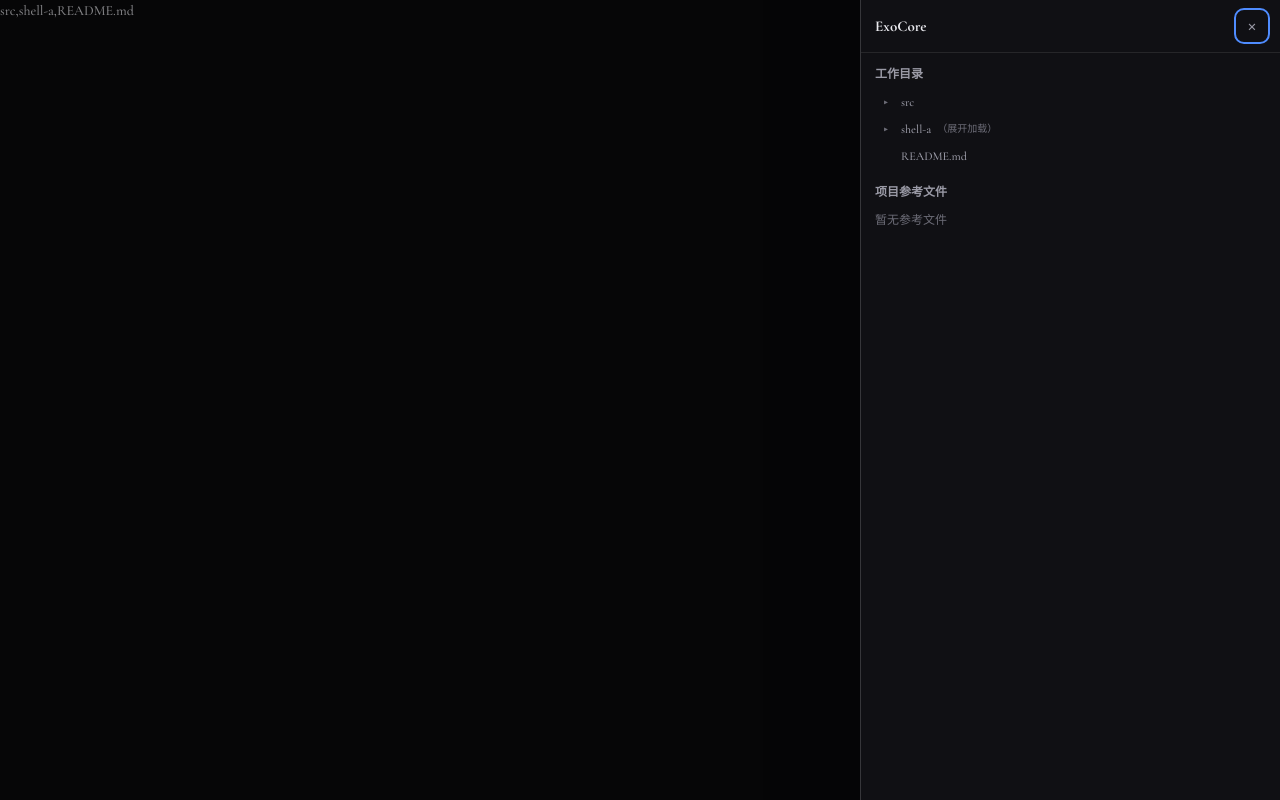
Test: P1D Project files drawer leaf › lands a shell load in the Query-owned record; every consumer sees the merge
Expected: the text "shell-a" is shown, [901,120,931,138]
What coordinates should you click on to do the following:
click the button "▸ shell-a （展开加载）"
I would click on:
 (916, 129)
Its box is [875,116,1266,142].
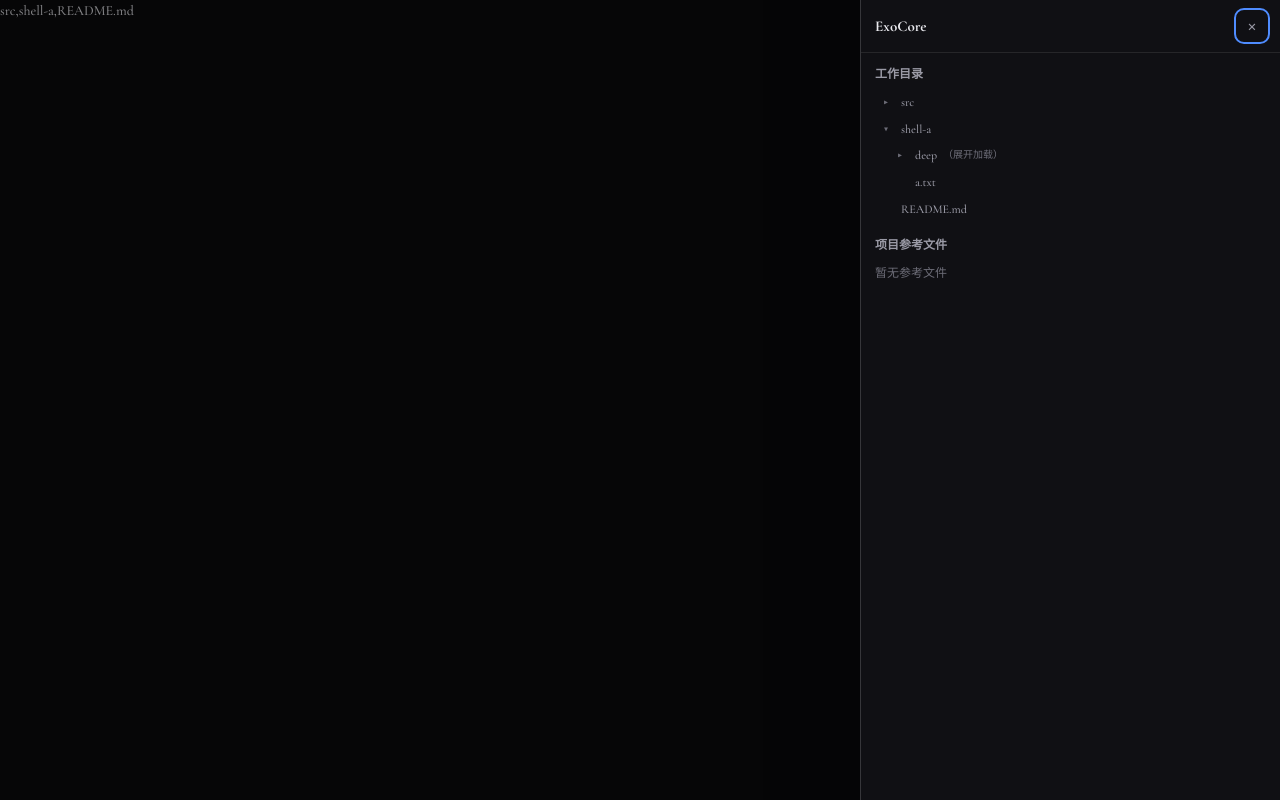
Expected: the text with test id "root-probe" shows "shell-a", [0,2,134,19]
Expected: the text "a.txt" is shown, [915,173,936,191]
